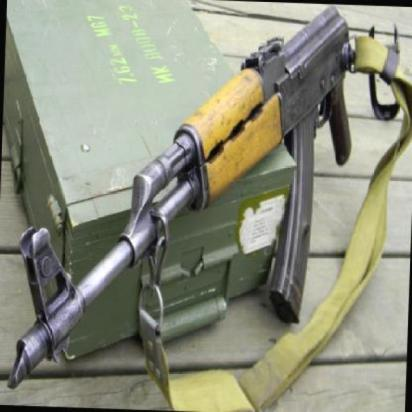Gun: (8, 9, 350, 388)
